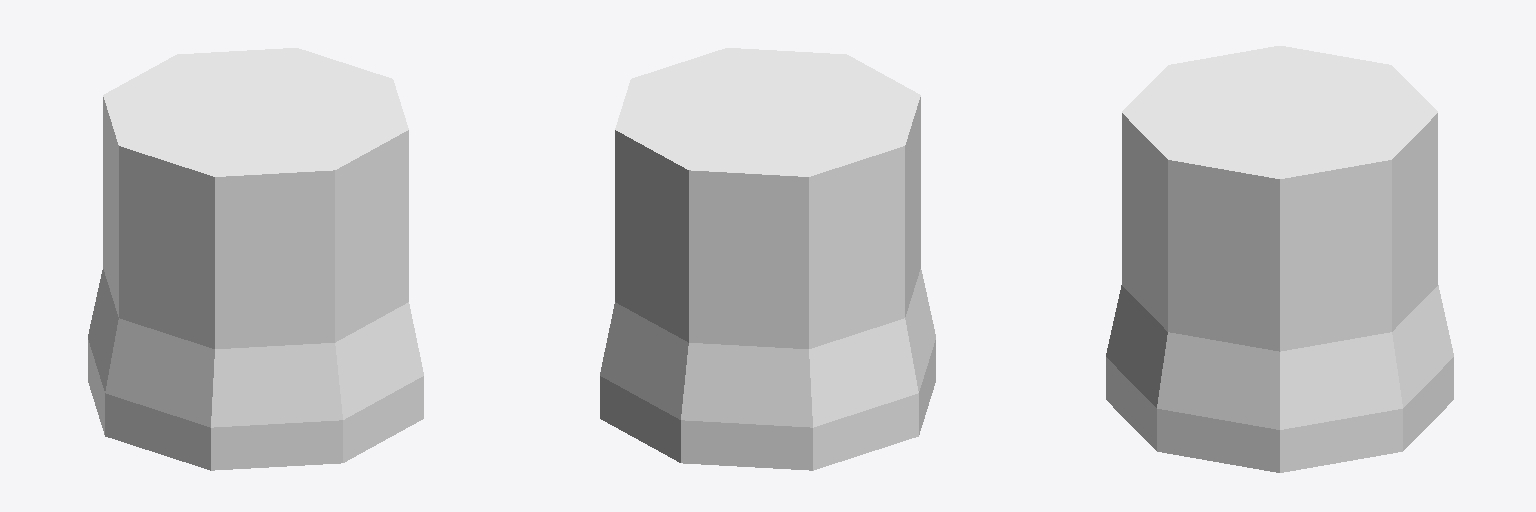
File: towerPaint_base.obj
3 views of the same model, side by side, from view 1: azimuth 30°, elevation 25°; view 2: azimuth 150°, elevation 25°; view 3: azimuth 270°, elevation 25° (orthographic).
Parts seen in each view (by area): view 1: towerPaint_base; view 2: towerPaint_base; view 3: towerPaint_base.
Part boxes in pixels (x1,y1,x2,y2): towerPaint_base: (88,48,423,470); towerPaint_base: (600,48,935,470); towerPaint_base: (1106,46,1453,472).
Size of the model in its own units: 1.1 by 1 by 1.1.